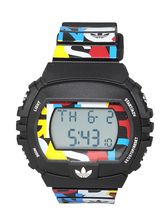watch: (14, 20, 156, 206)
